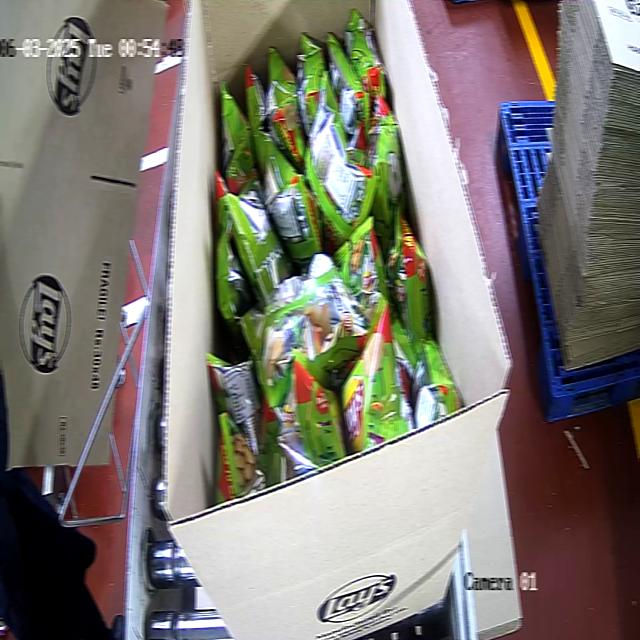YOGURT_HERB: (207, 7, 462, 501)
